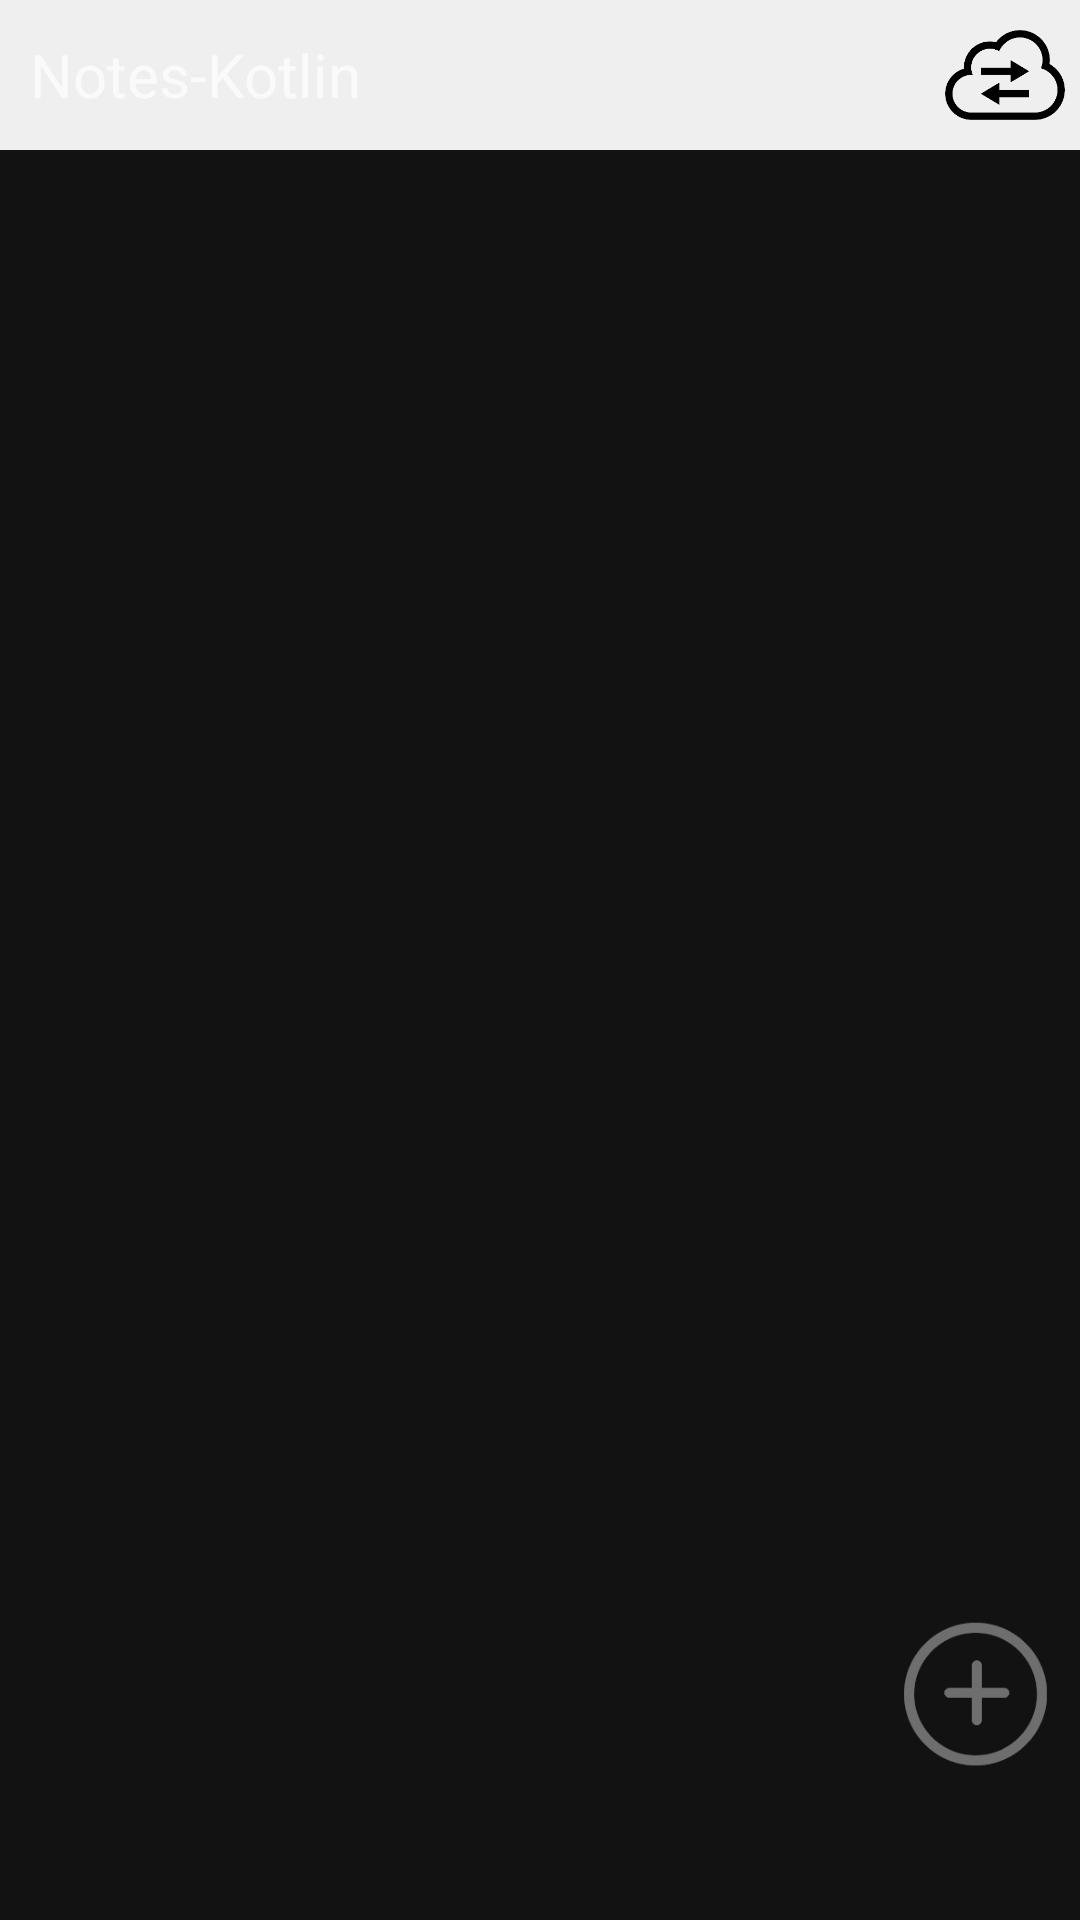

Point at icon controls on the screen. Image size 1080*1920, points as point (x, y).
add: point (975, 1694)
sync: point (1005, 75)
